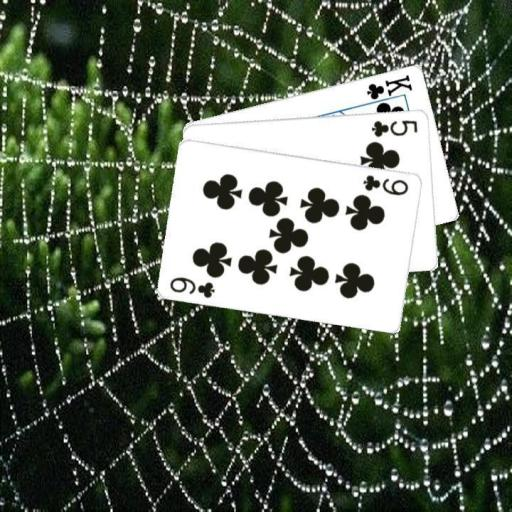card-corner: (362, 71, 414, 107), (166, 273, 217, 299), (360, 171, 410, 197), (369, 116, 419, 138)
